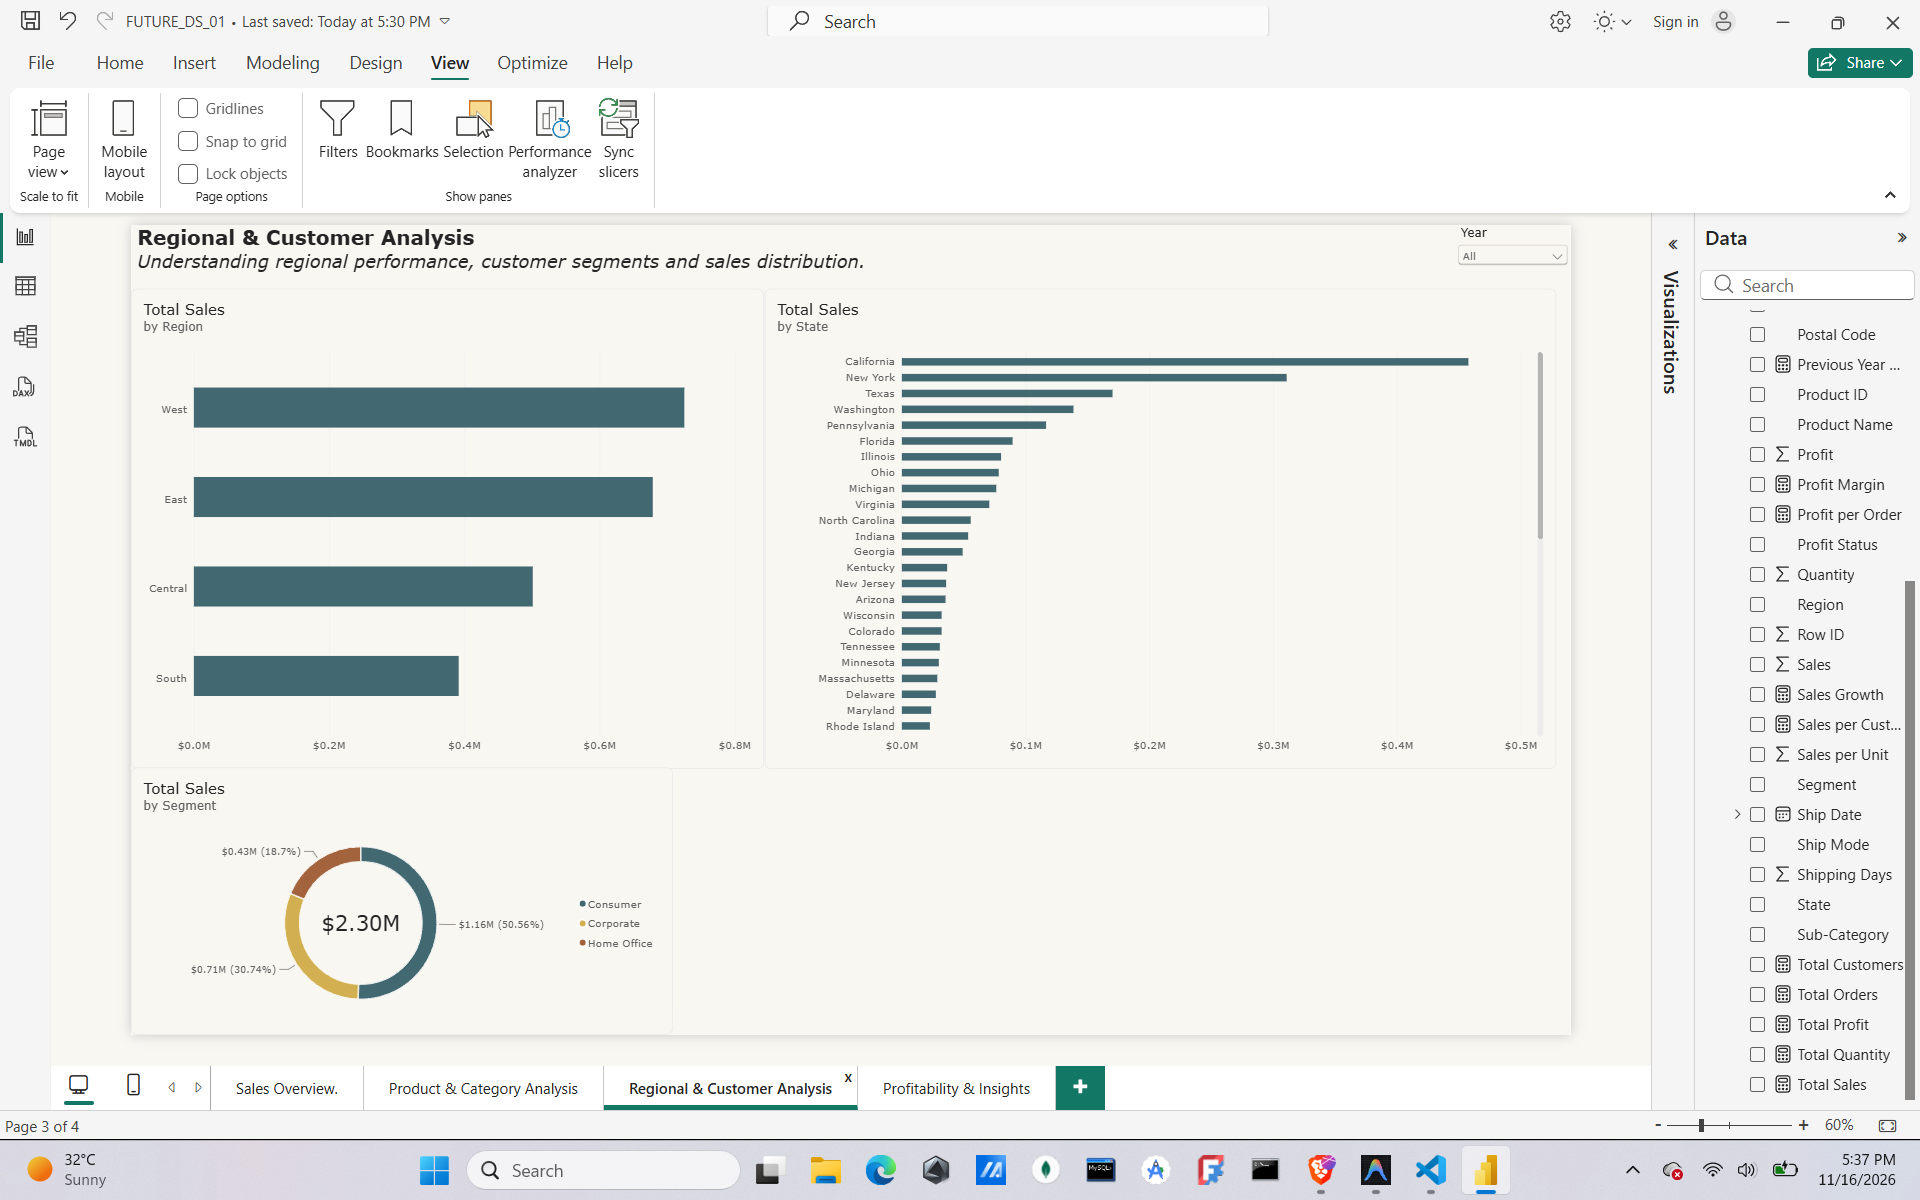

This screenshot's page, from the dashboard's own definition file:
{"tool":"powerbi","page":{"name":"Regional & Customer Analysis","canvas":[1920,1080],"ordinal":2},"visuals":[{"type":"textbox","box":[8.7,0,1426.7,85.5],"z":0},{"type":"clusteredBarChart","fields":{"Category":["DATA.Region"],"Y":["DATA.Total Sales"]},"box":[0,85.5,844.2,640.1],"z":1000},{"type":"clusteredBarChart","fields":{"Category":["DATA.State"],"Y":["DATA.Total Sales"]},"box":[844.3,84.3,1055.2,640.1],"z":2000},{"type":"donutChart","fields":{"Category":["DATA.Segment"],"Y":["DATA.Total Sales"]},"box":[0,723.8,722.1,355.8],"z":3000},{"type":"slicer","fields":{"Values":["CALENDAR.Year"]},"box":[1764.8,0,155.2,1079.7],"z":4000}]}

Visuals, with their boxes on the page's 1920x1080 design canvas (x1, y1, x2, y2). These are canvas units, not pixel positions in the 1920x1200 screenshot, which may show the page scaled, cropped or inside an application window:
textbox: (left=9, top=0, right=1435, bottom=86)
clusteredBarChart - DATA.Region x DATA.Total Sales: (left=0, top=86, right=844, bottom=726)
clusteredBarChart - DATA.State x DATA.Total Sales: (left=844, top=84, right=1900, bottom=724)
donutChart - DATA.Segment x DATA.Total Sales: (left=0, top=724, right=722, bottom=1080)
slicer - CALENDAR.Year: (left=1765, top=0, right=1920, bottom=1080)
